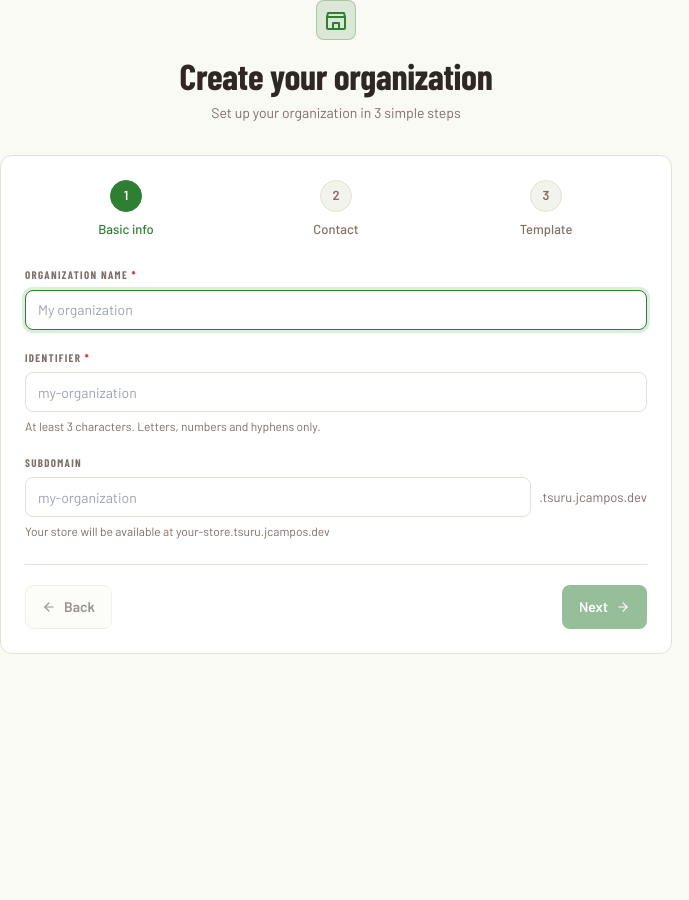
Scenario: organization onboarding › ignores late slug results and never enables Next for an unchecked identifier
Expected: the list item "1 Basic info" is shown, [98,180,154,237]
Type "Old name" into the field labelled "Organization name" at (336, 310), box [25,290,647,330]
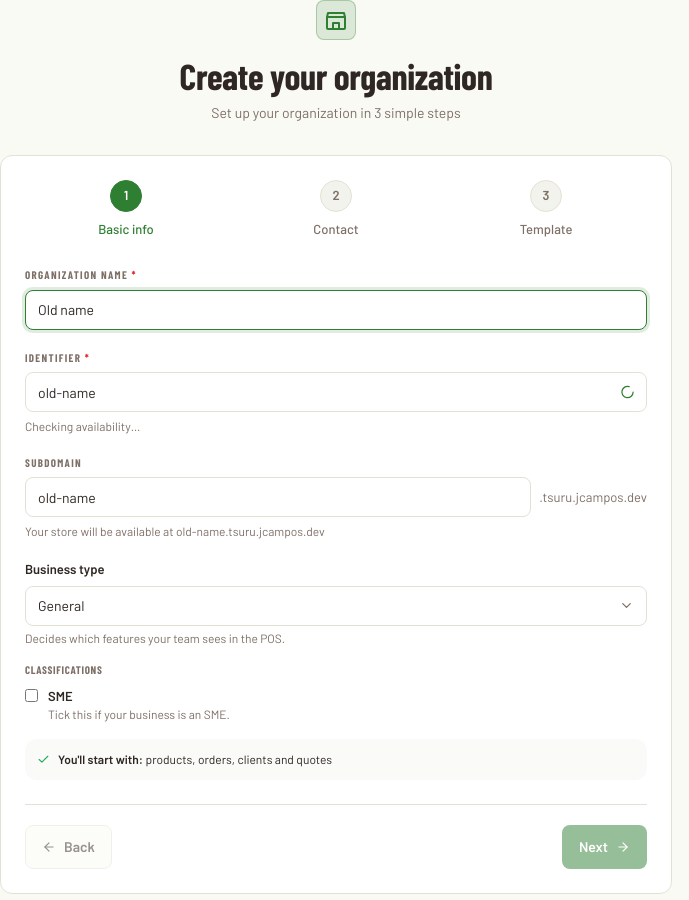
Replace the text in the field labelled "Identifier" with "taken-name" at (336, 392), box [25,372,647,412]
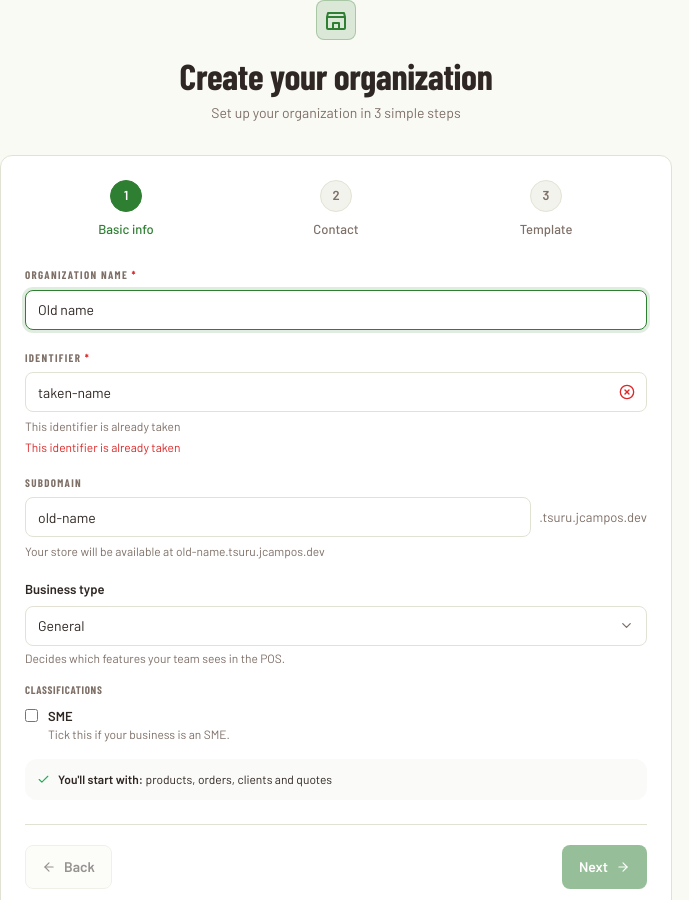
Expected: the button "Next" is disabled, [562,845,647,889]
Now the 1st message "This identifier is already taken" is shown, box [25,419,180,433]
